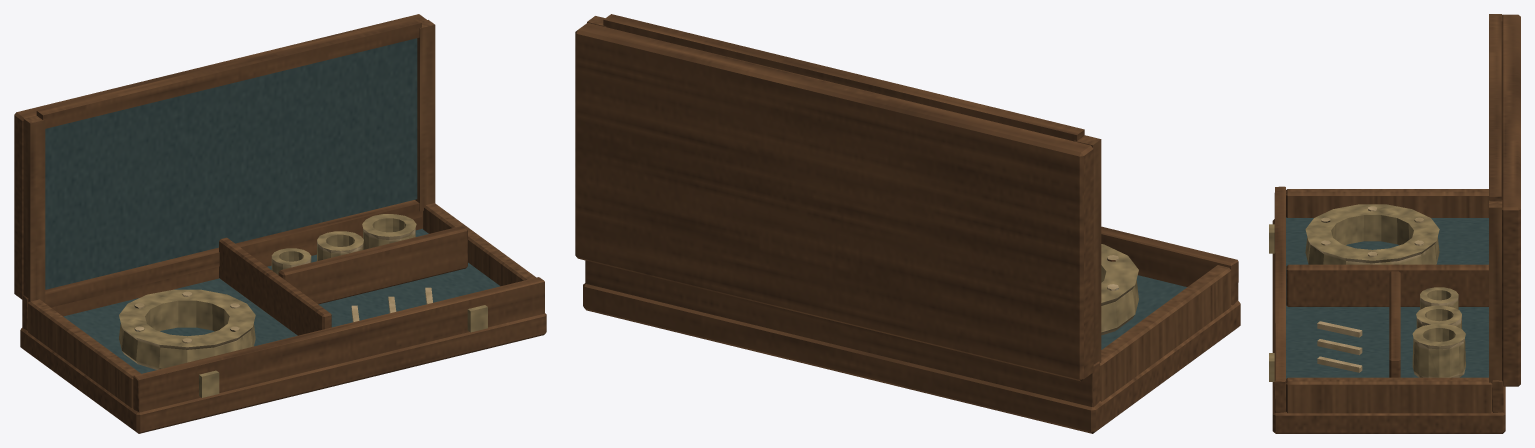
File: AssemblyPartsCase_LOD1.fbx
The picture shows the model from 3 angles, left to right: view 1: azimuth 30°, elevation 25°; view 2: azimuth 150°, elevation 25°; view 3: azimuth 270°, elevation 25°; orthographic projection. The views are drawn at different scales.
Parts seen in each view (by area): view 1: AssemblyPartsCase.001; view 2: AssemblyPartsCase.001; view 3: AssemblyPartsCase.001.
Boxes of the visible parts, x1=… form: AssemblyPartsCase.001: x1=14, y1=14, x2=546, y2=433; AssemblyPartsCase.001: x1=575, y1=14, x2=1240, y2=433; AssemblyPartsCase.001: x1=1269, y1=14, x2=1520, y2=433.
Bounding box in the file's own units: 0.948 × 0.5197 × 0.5135.
1 material, 1 textured.
